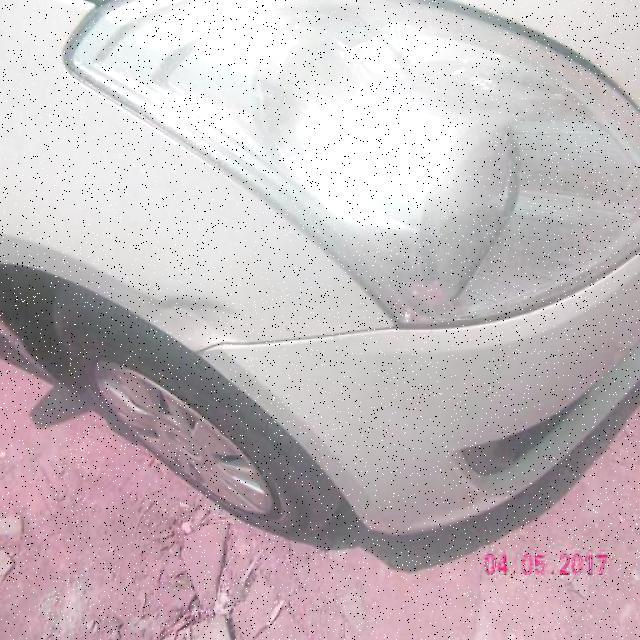car damage: (159, 292, 255, 353)
